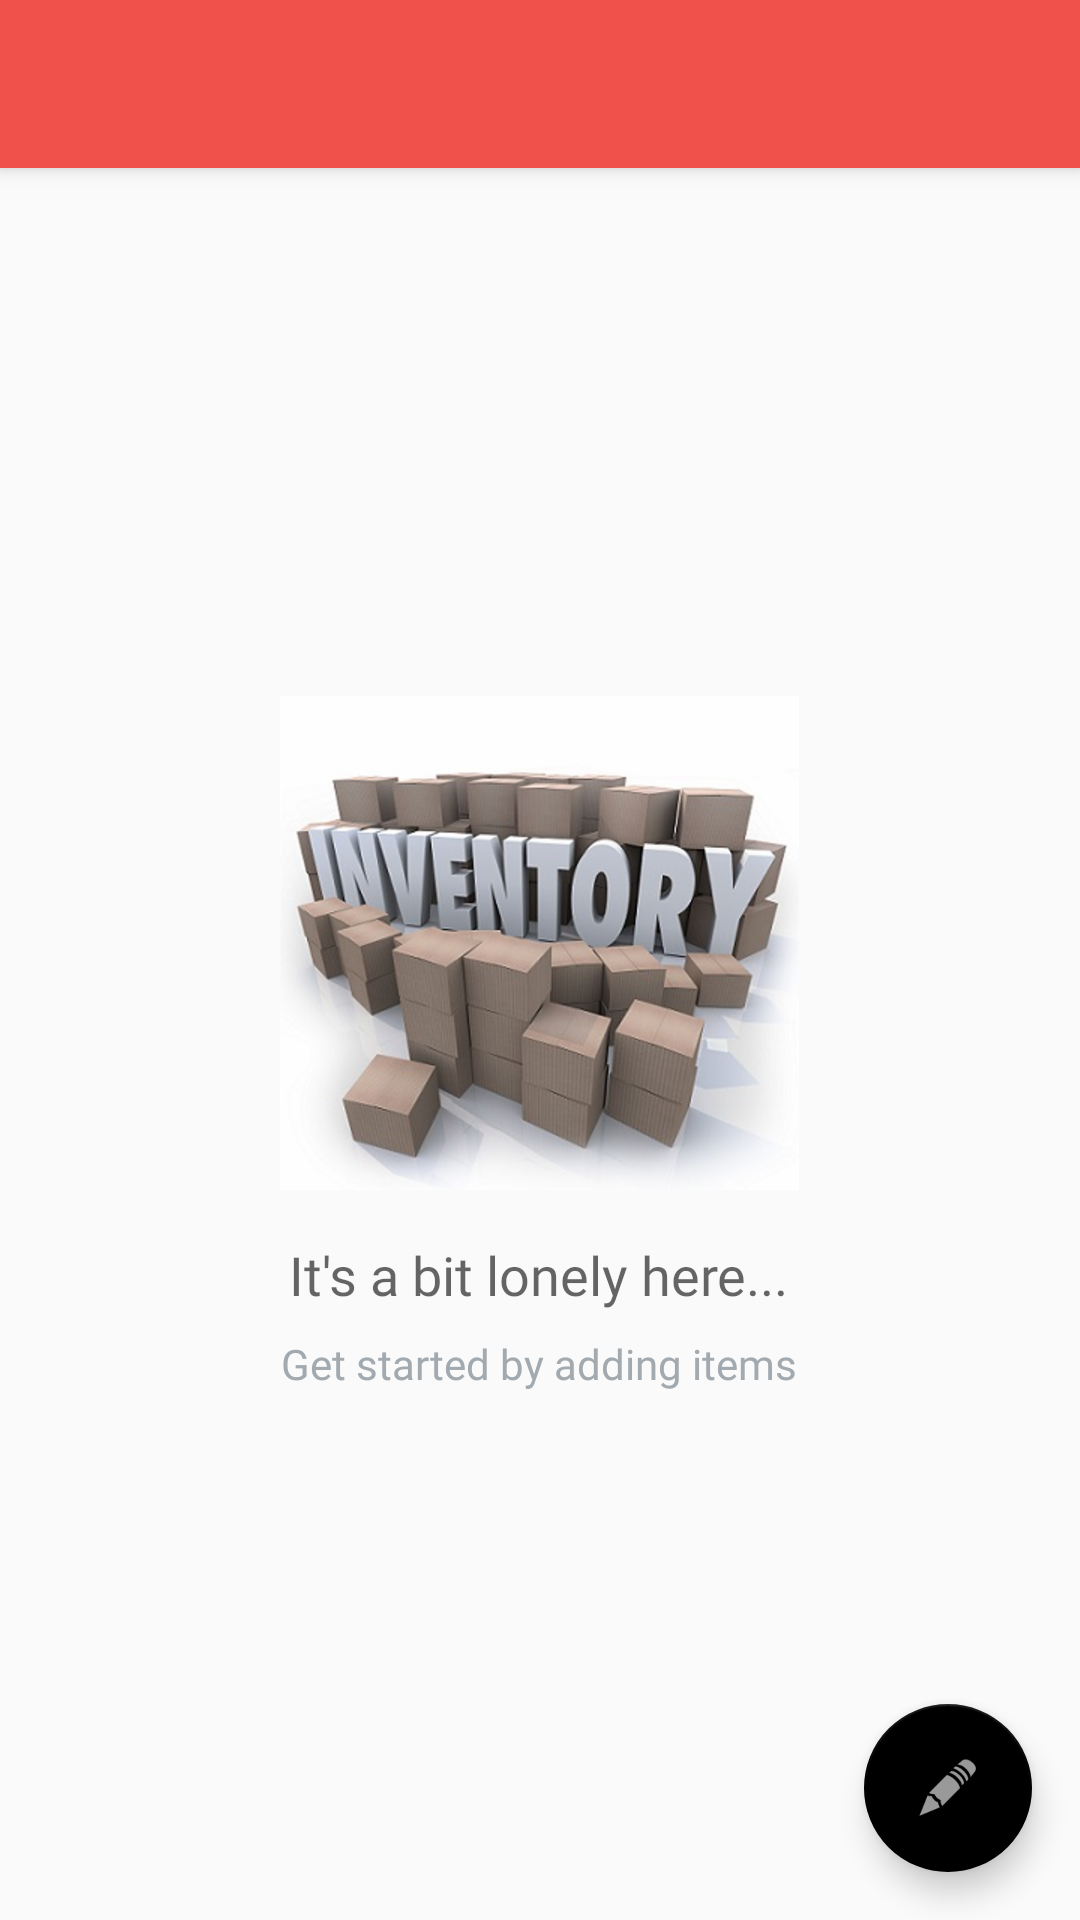

Icon click points for this 1080x1920 phone screenshot, format (x=x, y=y):
edit: (x=948, y=1788)
